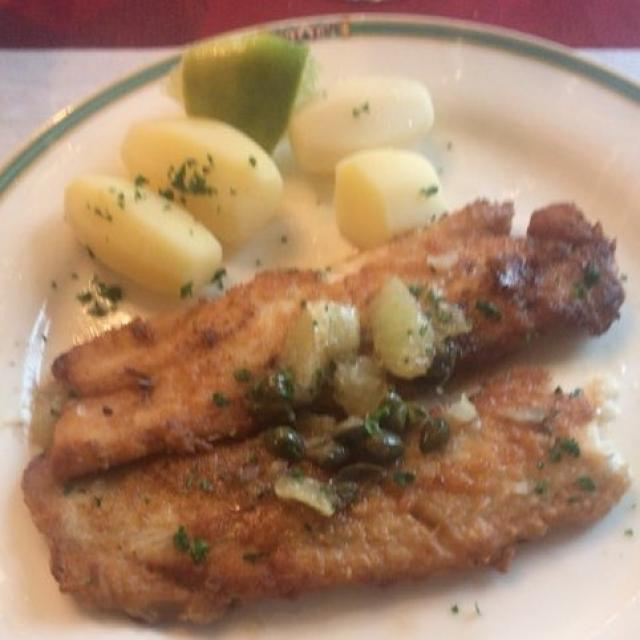fish: (30, 208, 618, 618)
potatoes-steamed: (61, 76, 456, 303)
